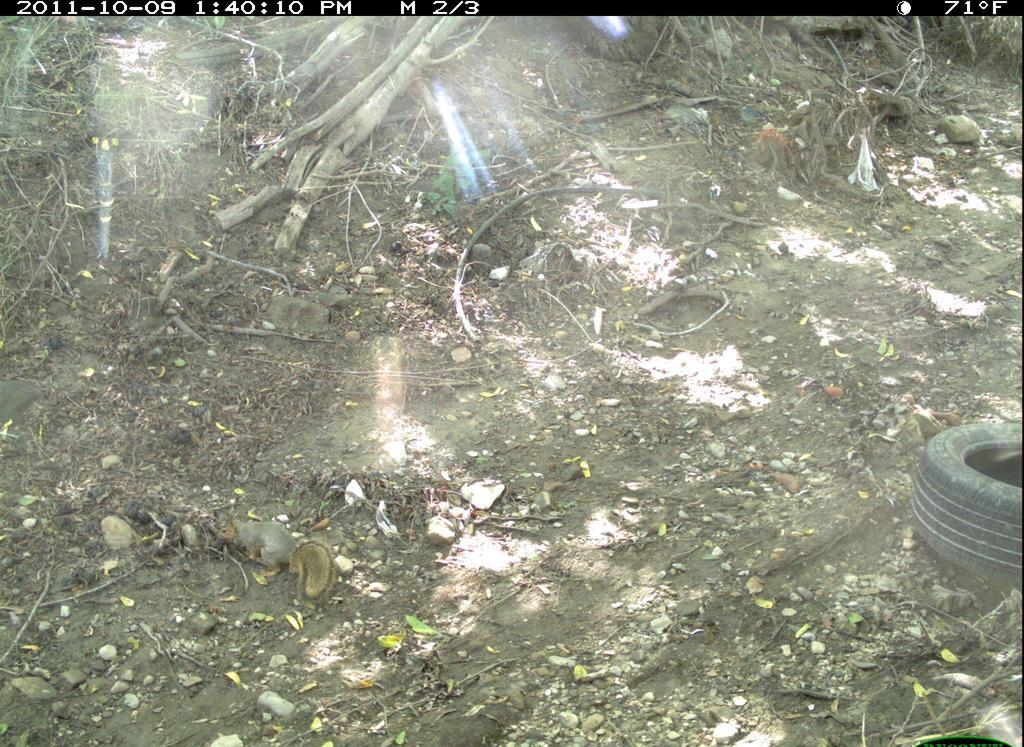squirrel: (214, 506, 345, 610)
